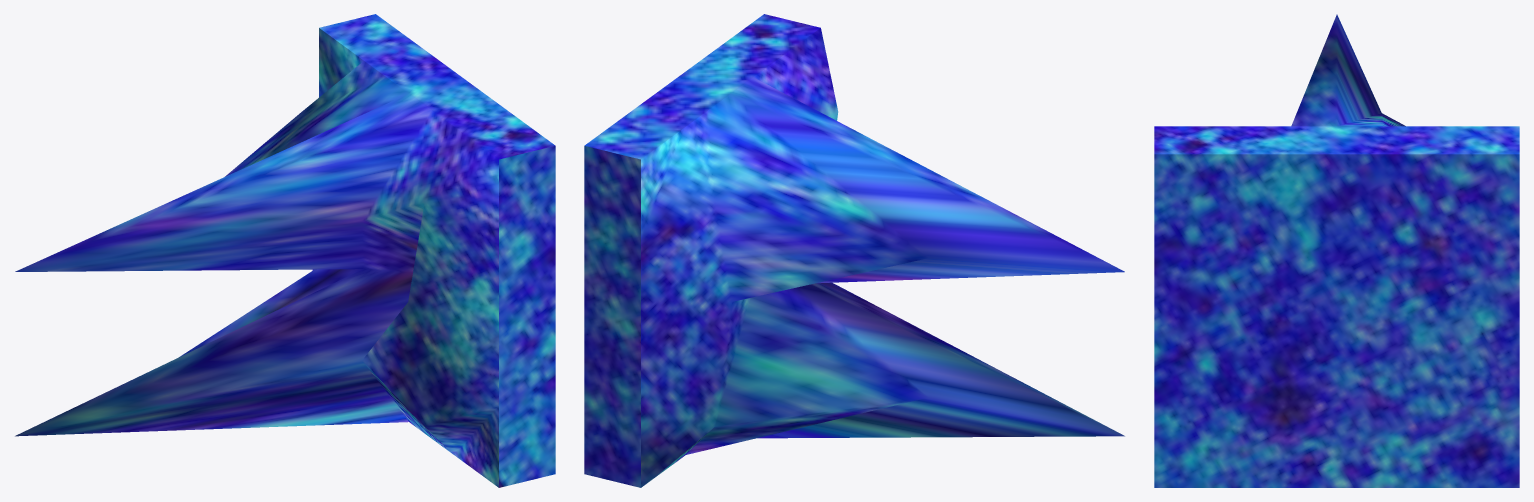
Rendered from Platf2.fbx.
The picture shows the model from 3 angles, left to right: view 1: azimuth 30°, elevation 25°; view 2: azimuth 150°, elevation 25°; view 3: azimuth 270°, elevation 25°; orthographic projection.
Parts seen in each view (by area): view 1: Cube; view 2: Cube; view 3: Cube.
Boxes of the visible parts, box(x1,y1,x2,y2) form: Cube: box(15, 14, 555, 487); Cube: box(584, 14, 1124, 487); Cube: box(1154, 14, 1519, 487).
Size of the model in its own units: 867 by 603 by 599.
